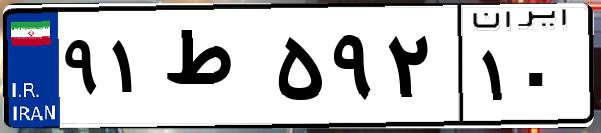0: (525, 38, 570, 115)
1: (475, 38, 525, 113), (110, 28, 158, 98)
2: (385, 28, 445, 110)
5: (270, 28, 330, 110)
9: (330, 28, 385, 110), (57, 26, 110, 100)
ط: (158, 20, 270, 120)
